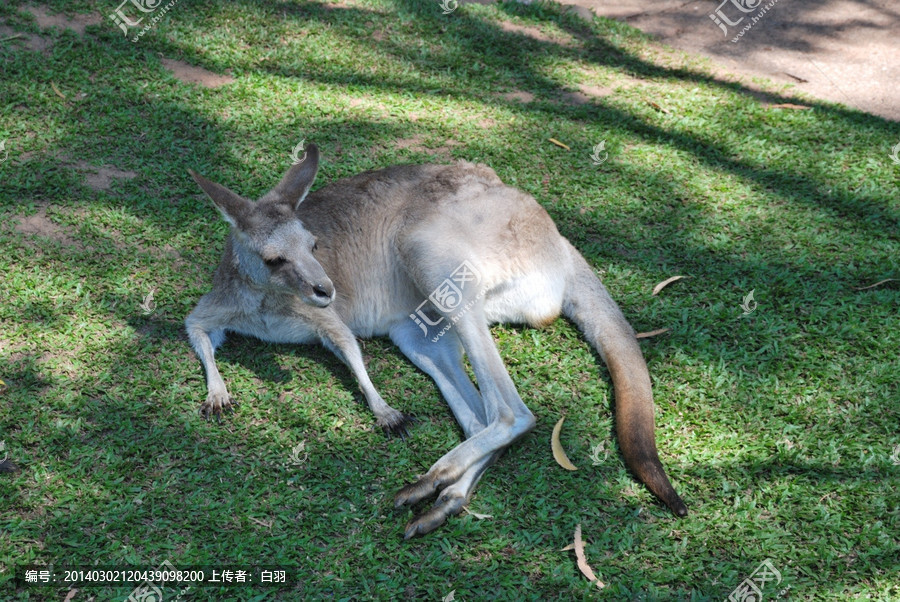kangaroo: (172, 138, 708, 544)
